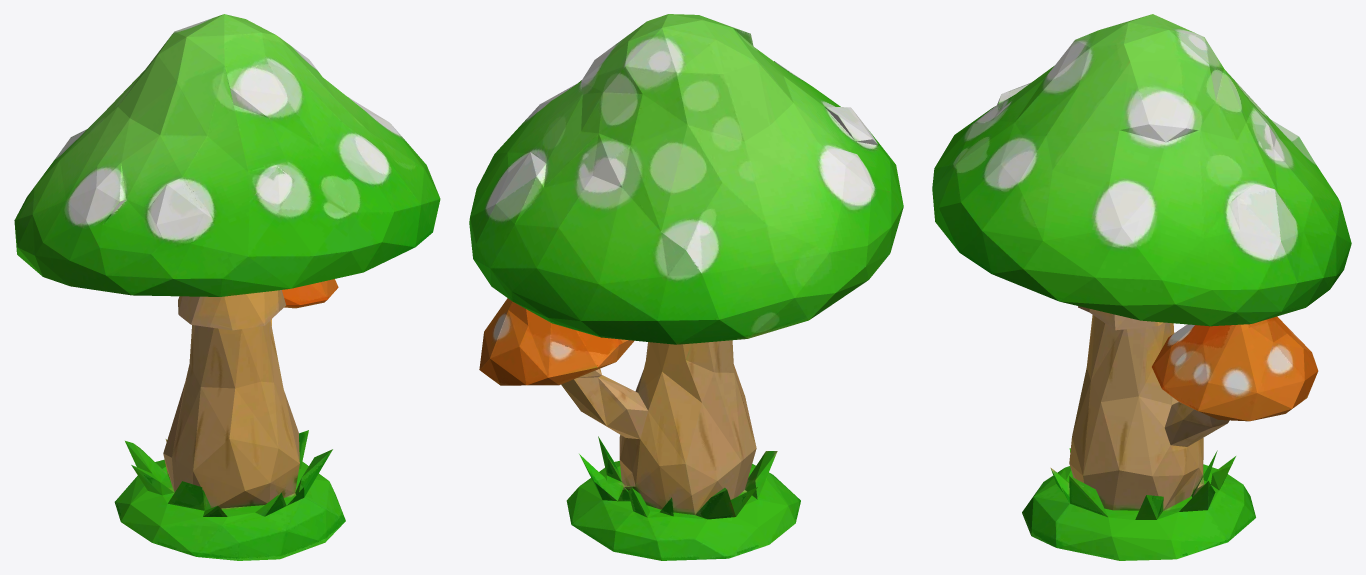
The model's file is fantasy_mushroom.glb.
The picture shows the model from 3 angles, left to right: view 1: azimuth 30°, elevation 25°; view 2: azimuth 150°, elevation 25°; view 3: azimuth 270°, elevation 25°; orthographic projection. The views are drawn at different scales.
Bounding box in the file's own units: 1.56 × 1.98 × 1.53.
1 material, 1 textured.
